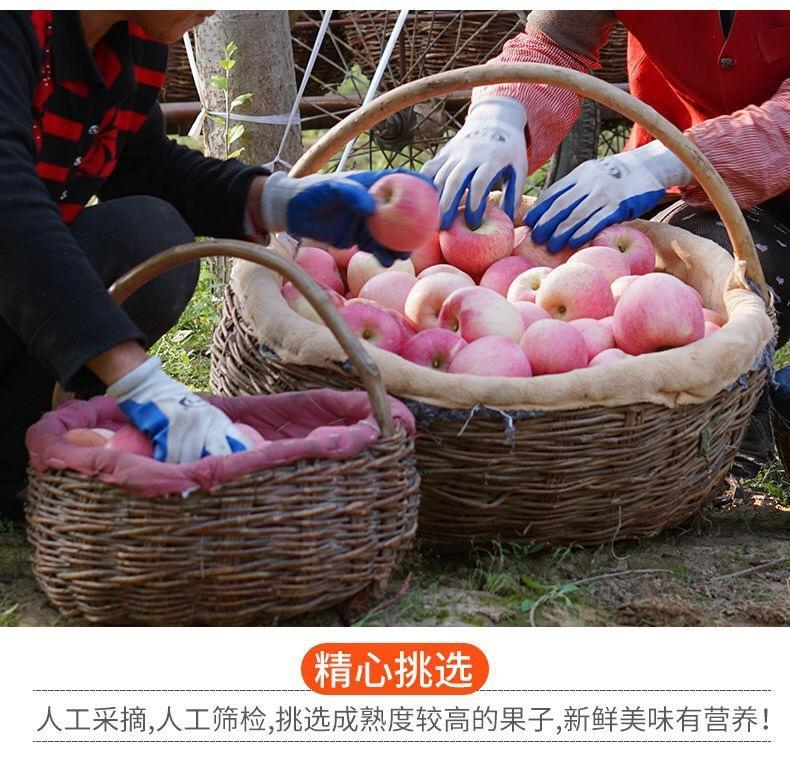apple: (611, 273, 706, 352), (366, 175, 438, 253), (437, 203, 516, 270), (535, 261, 616, 322), (437, 286, 525, 340), (516, 319, 588, 375), (445, 334, 531, 379), (591, 223, 656, 275), (335, 305, 401, 354), (402, 327, 467, 375)
